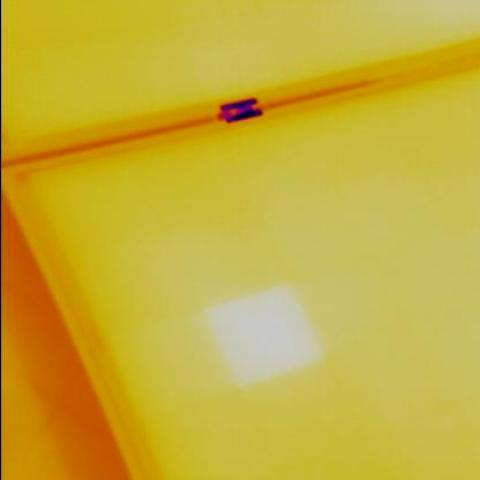fault: (205, 280, 319, 388)
